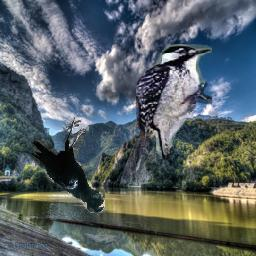Crow: (31, 117, 105, 213)
Woodpecker: (136, 45, 212, 160)
